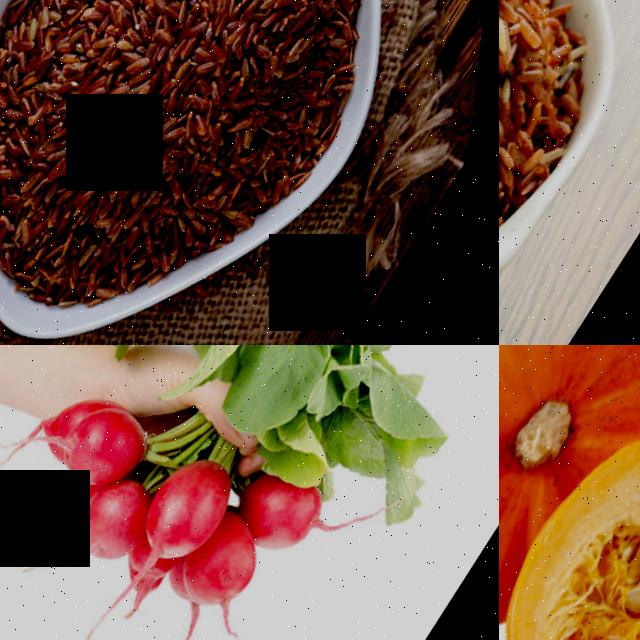pumpkin: (499, 345, 640, 640), (499, 392, 640, 640)
radishes: (0, 345, 446, 640)
red rice: (0, 0, 458, 345), (499, 0, 638, 249)
